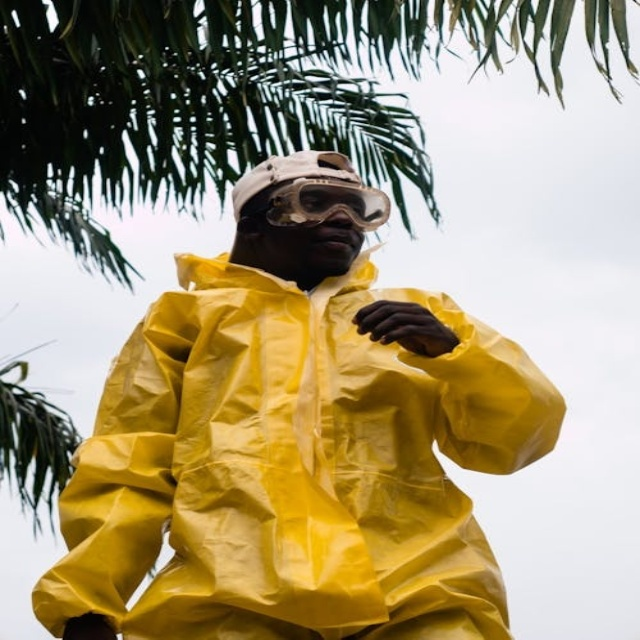Gafas: (245, 178, 392, 231)
Sin_guantes: (346, 295, 462, 356)
Sin_mascara: (306, 230, 360, 263)
